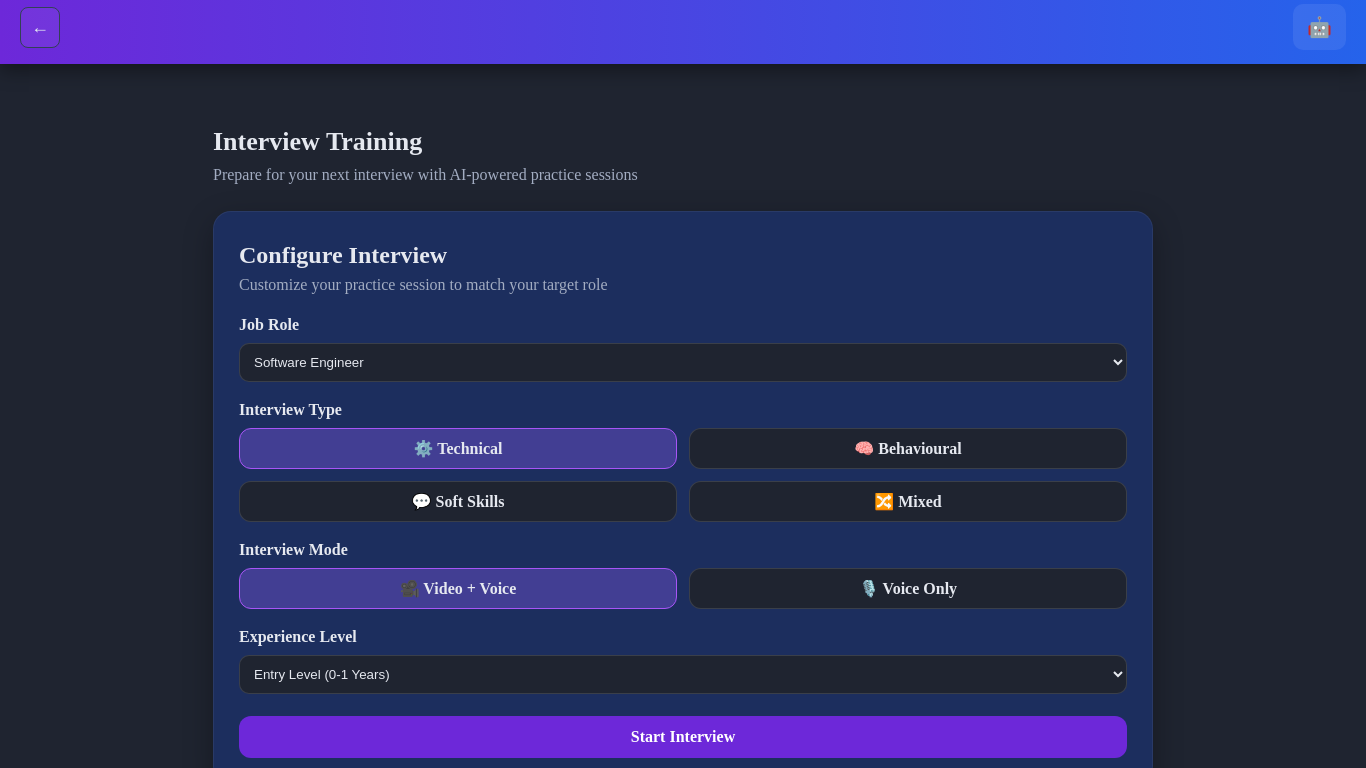
Test: InterviewTraining › shows an error when the interview cannot be started
What coordinates should you click on to do the following:
click the button "Start Interview"
I would click on:
 (683, 737)
Its box is x1=239 y1=716 x2=1127 y2=758.
(page scrolled)
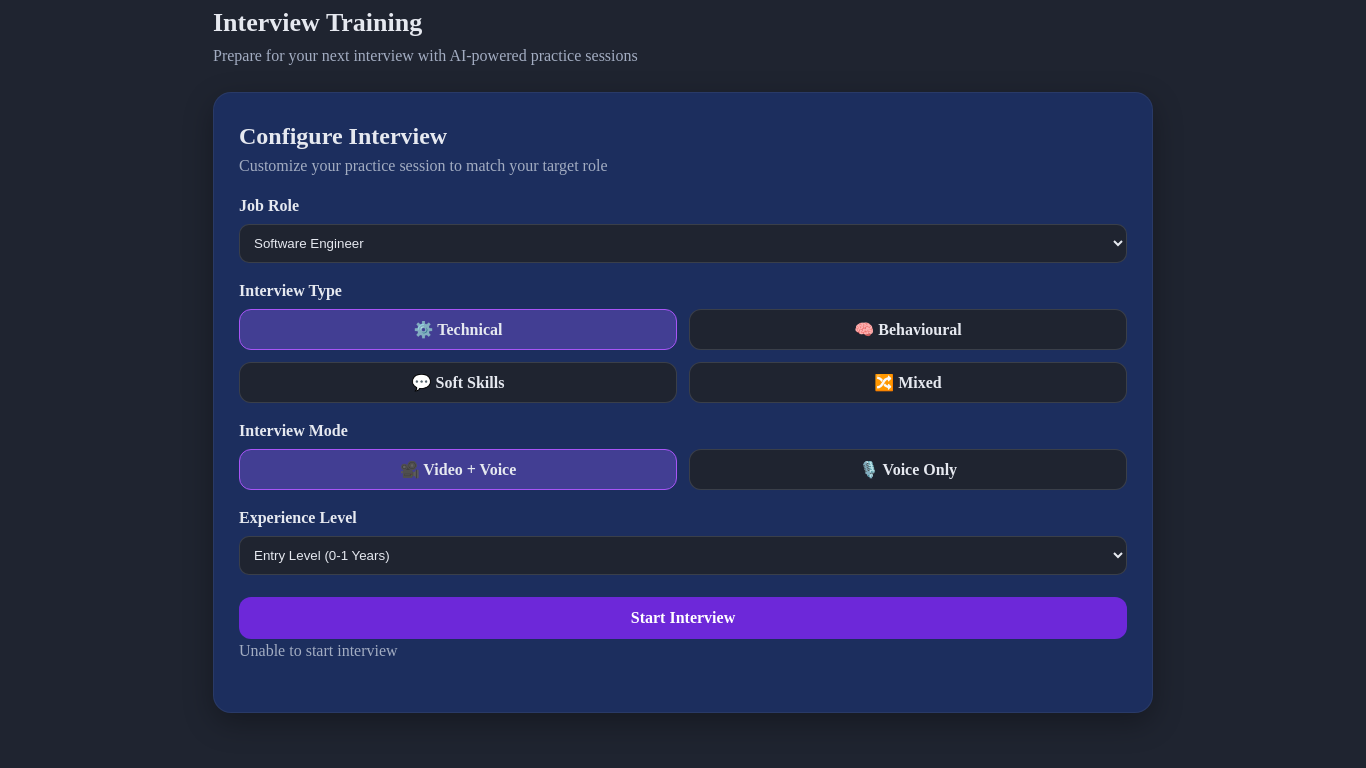
Expected: the text "Unable to start interview" is shown, x1=239 y1=642 x2=398 y2=659
